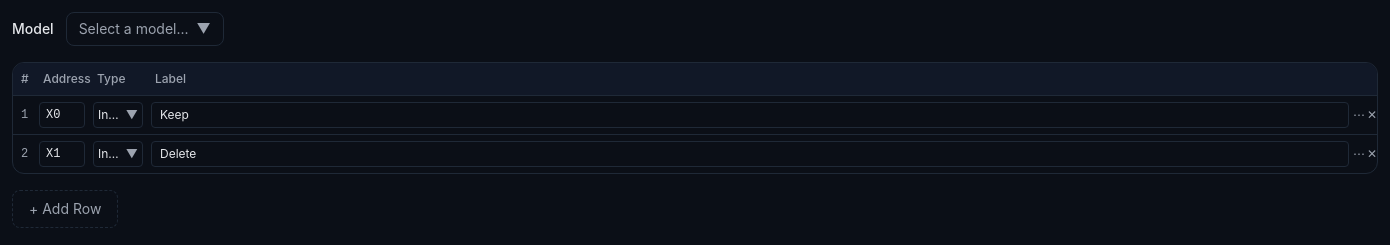
IOMappingTable › deletes a row when delete button is clicked
Click the button with test id "io-delete-1". click: click(1372, 154)
box: [1367,142,1377,166]
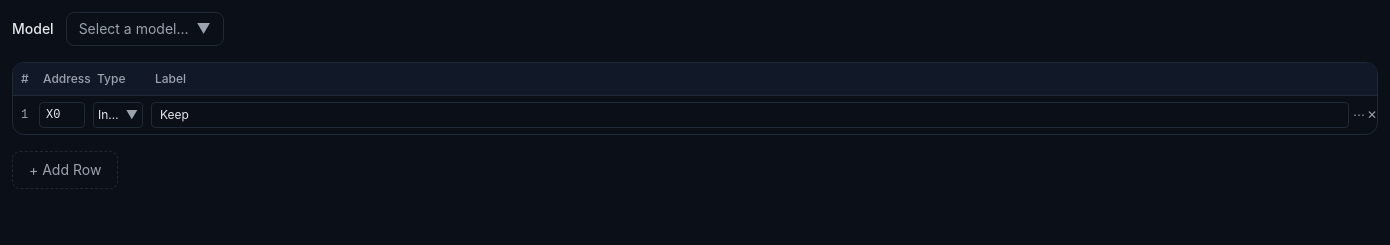
Expected: the field with test id "io-address-0" holds "X0", [39,102,85,128]
Expected: the field with test id "io-address-1" is gone
